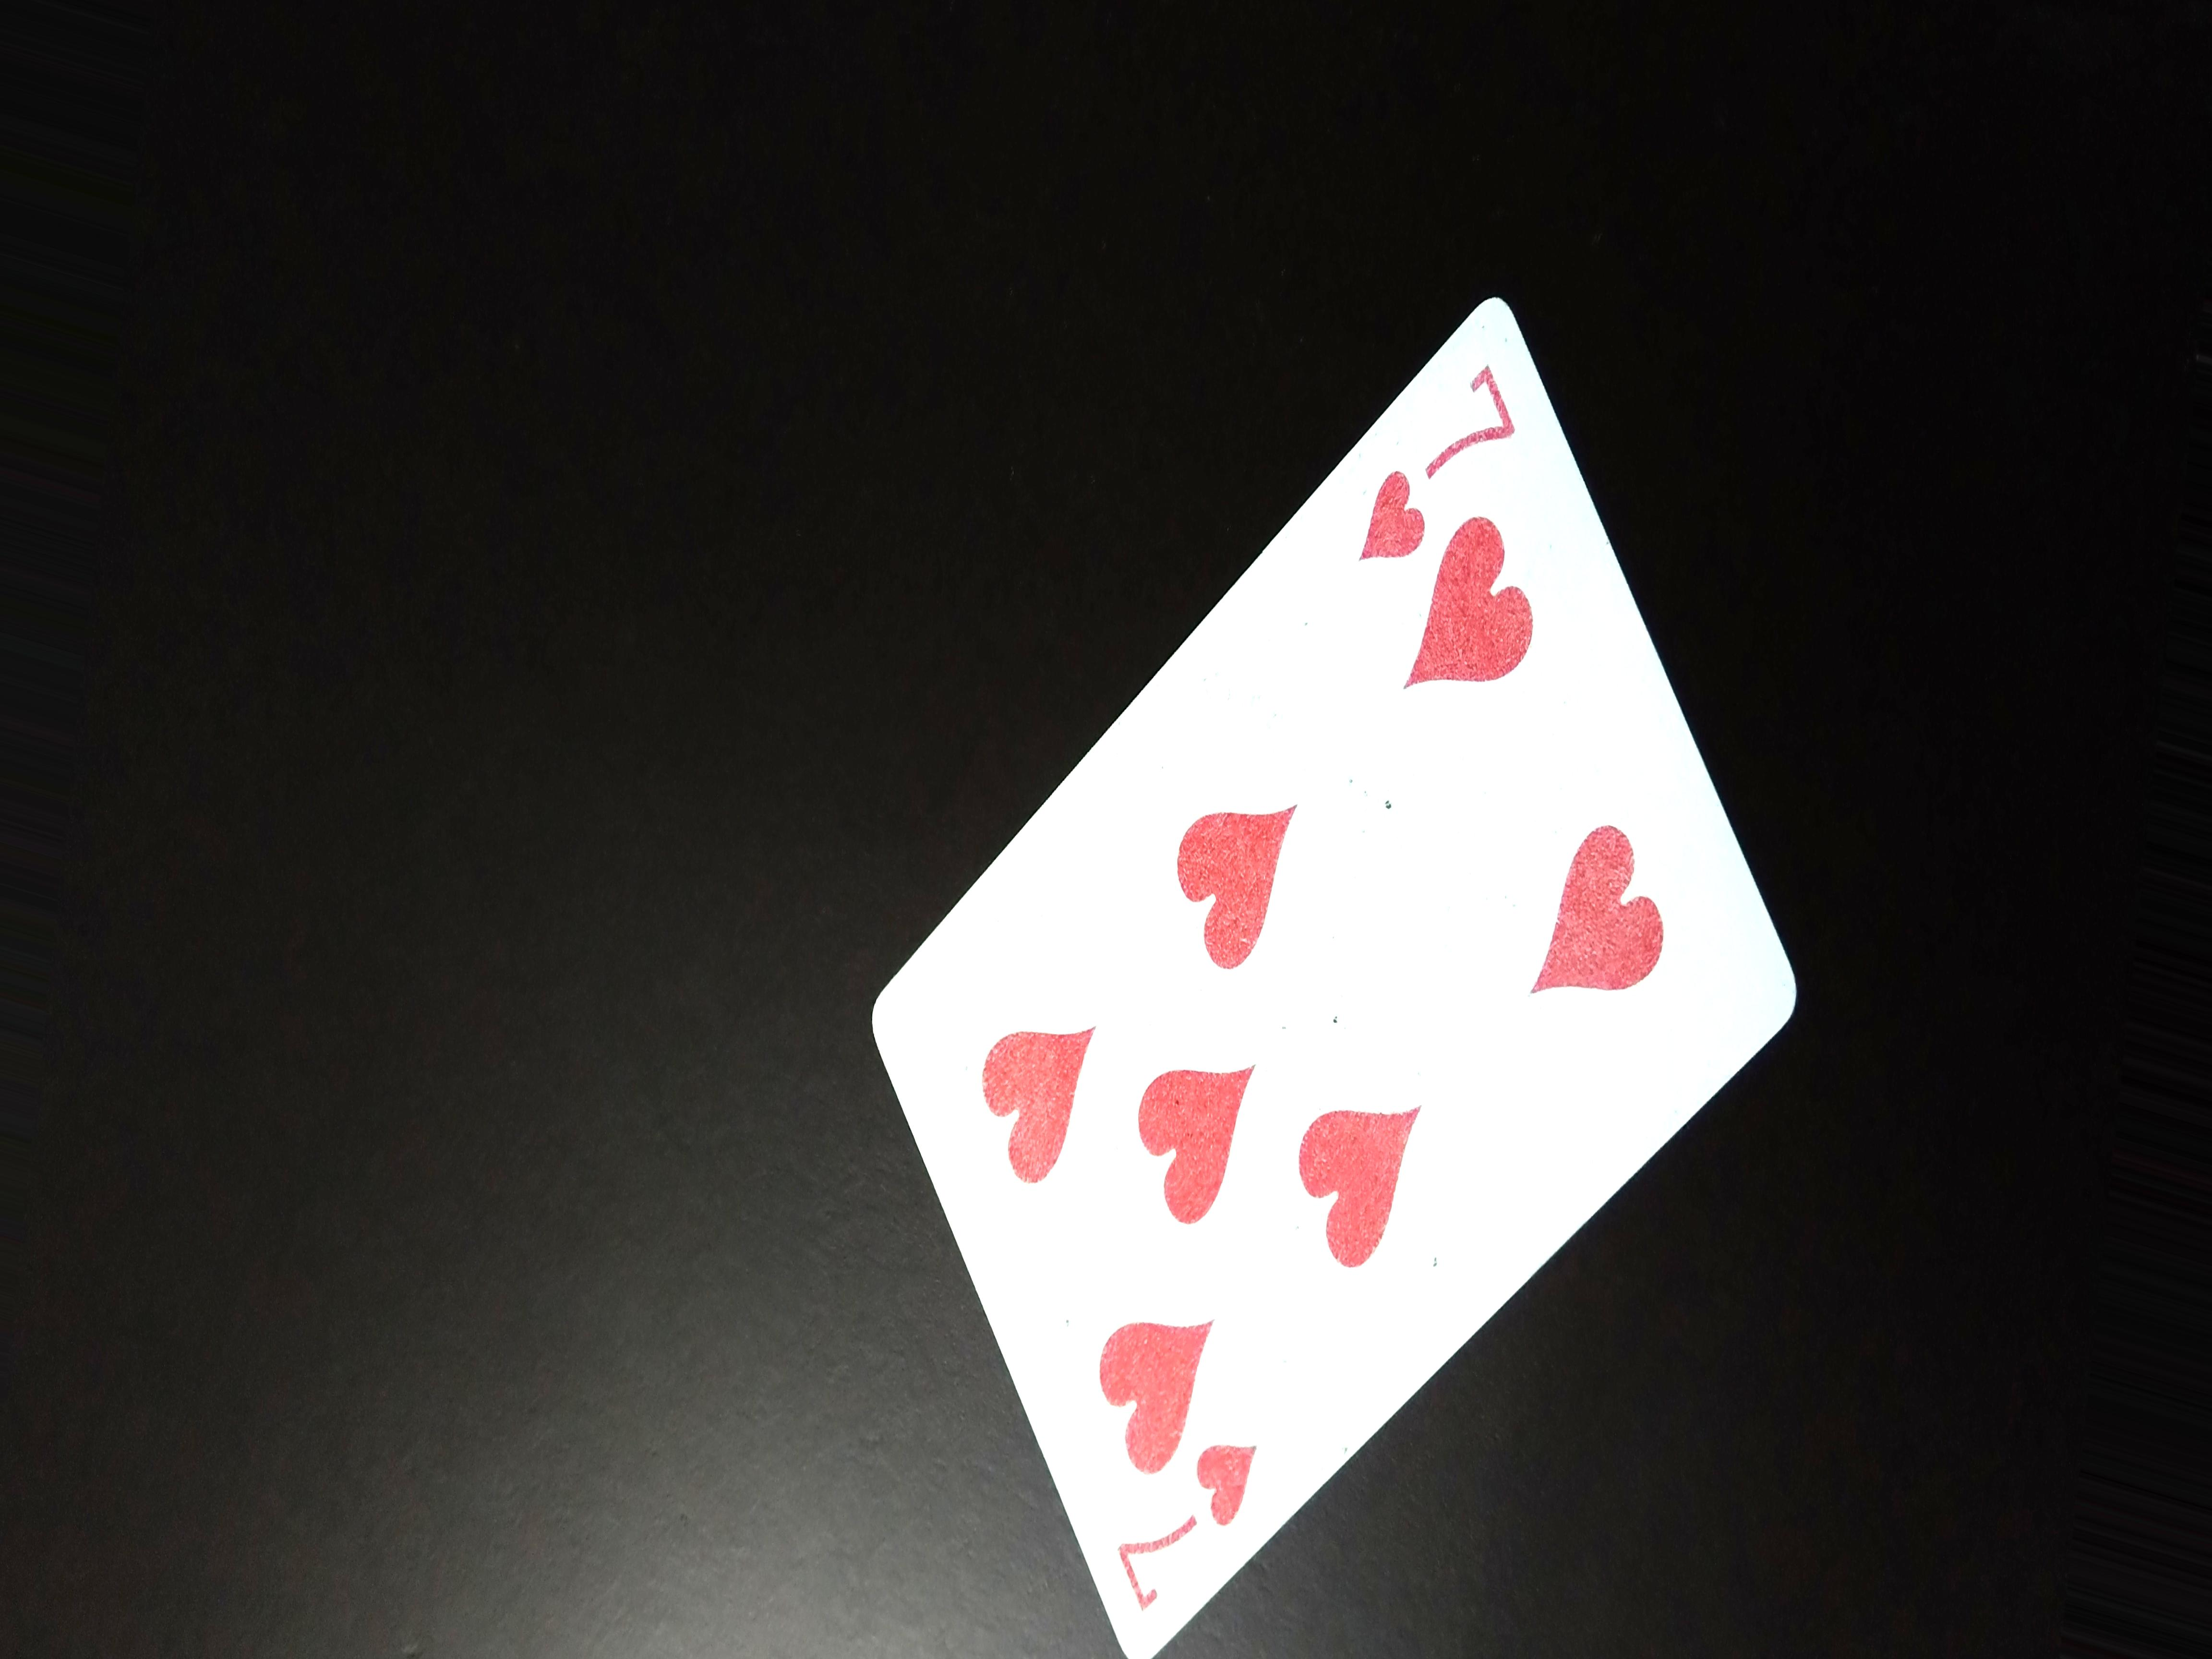7H: (1352, 357, 1526, 572)
